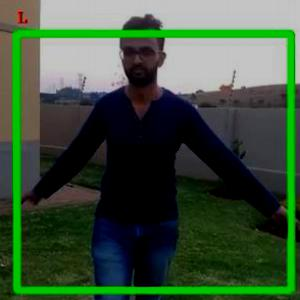land: (11, 29, 294, 299)
